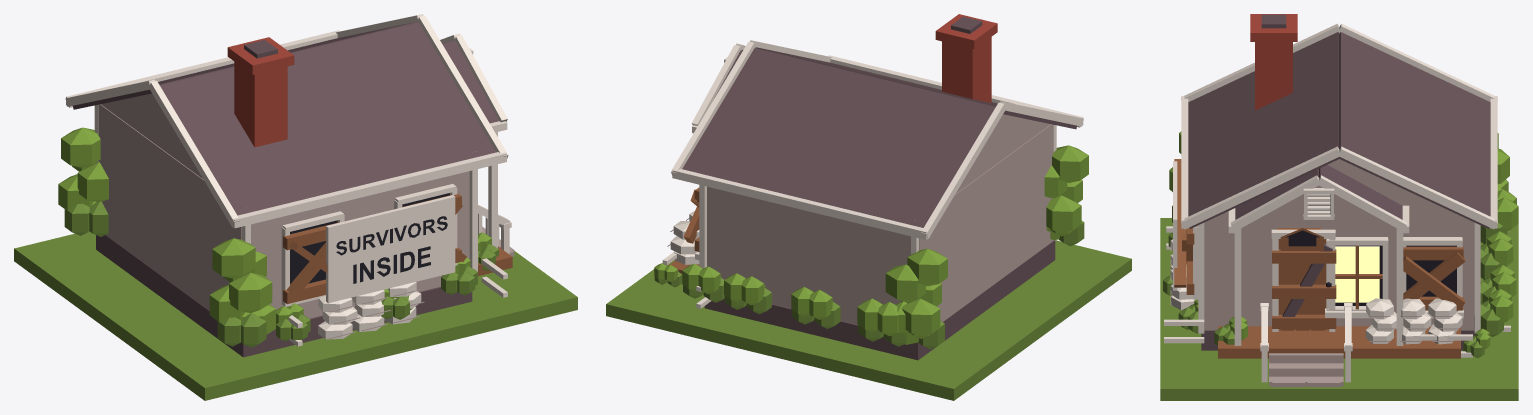
The model's file is bld.safe-house.lod2.glb.
3 views of the same model, side by side, from view 1: azimuth 30°, elevation 25°; view 2: azimuth 150°, elevation 25°; view 3: azimuth 270°, elevation 25° (orthographic). The views are drawn at different scales.
Parts seen in each view (by area): view 1: body, roof; view 2: body, roof; view 3: body, roof, door_front, window_front.
Part boxes in pixels (bbox=[...]): body: bbox=[14, 48, 577, 400]; roof: bbox=[65, 14, 508, 228]; body: bbox=[606, 57, 1131, 400]; roof: bbox=[671, 14, 1083, 239]; body: bbox=[1160, 131, 1518, 400]; roof: bbox=[1181, 14, 1497, 233]; door_front: bbox=[1272, 239, 1336, 330]; window_front: bbox=[1335, 246, 1379, 302].
Bounding box in the file's own units: 7.9 × 5.69 × 7.
